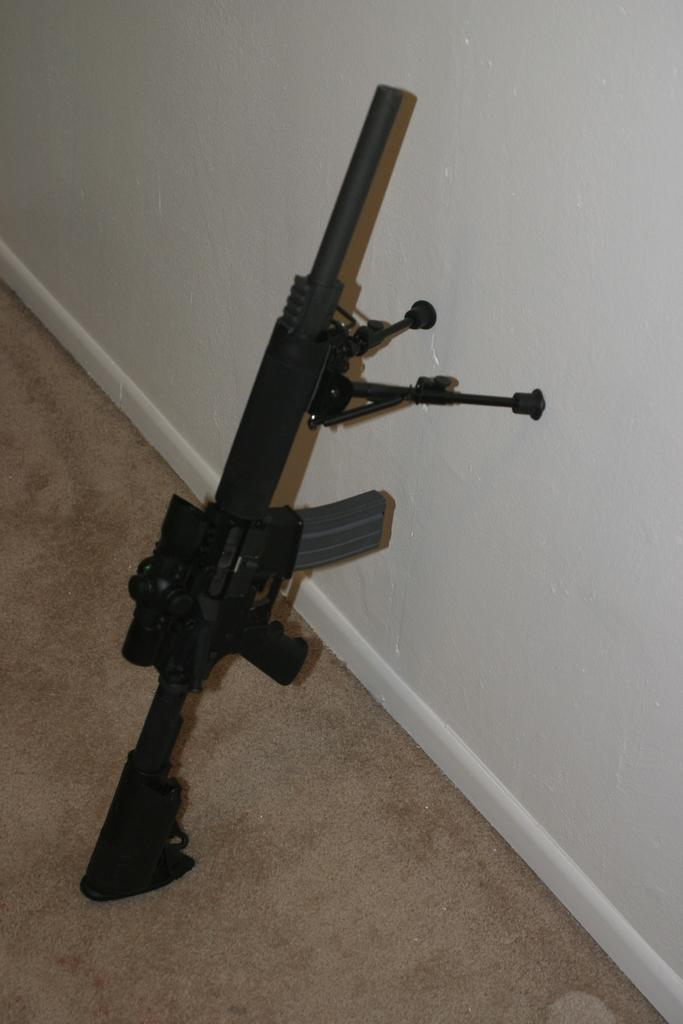Rifle: (86, 83, 546, 897)
